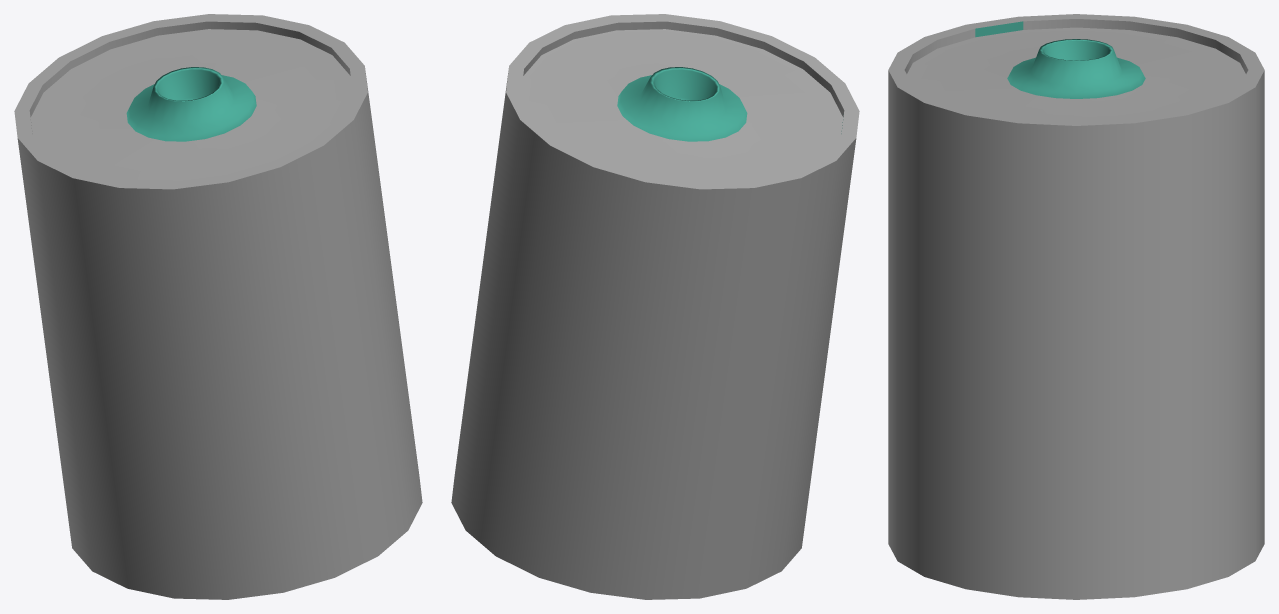
Rendered from battery.fbx.
The picture shows the model from 3 angles, left to right: view 1: azimuth 30°, elevation 25°; view 2: azimuth 150°, elevation 25°; view 3: azimuth 270°, elevation 25°; orthographic projection. The views are drawn at different scales.
Visible parts, largest first — view 1: pCylinder1; view 2: pCylinder1; view 3: pCylinder1.
Part boxes in pixels (x1=…): pCylinder1: x1=14, y1=14, x2=422, y2=599; pCylinder1: x1=451, y1=14, x2=859, y2=599; pCylinder1: x1=888, y1=14, x2=1264, y2=599.
Bounding box in the file's own units: 2.33 × 2.94 × 2.
